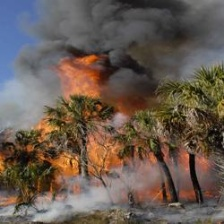fire: (37, 59, 127, 187)
smoke: (51, 1, 222, 59), (33, 190, 202, 219)
